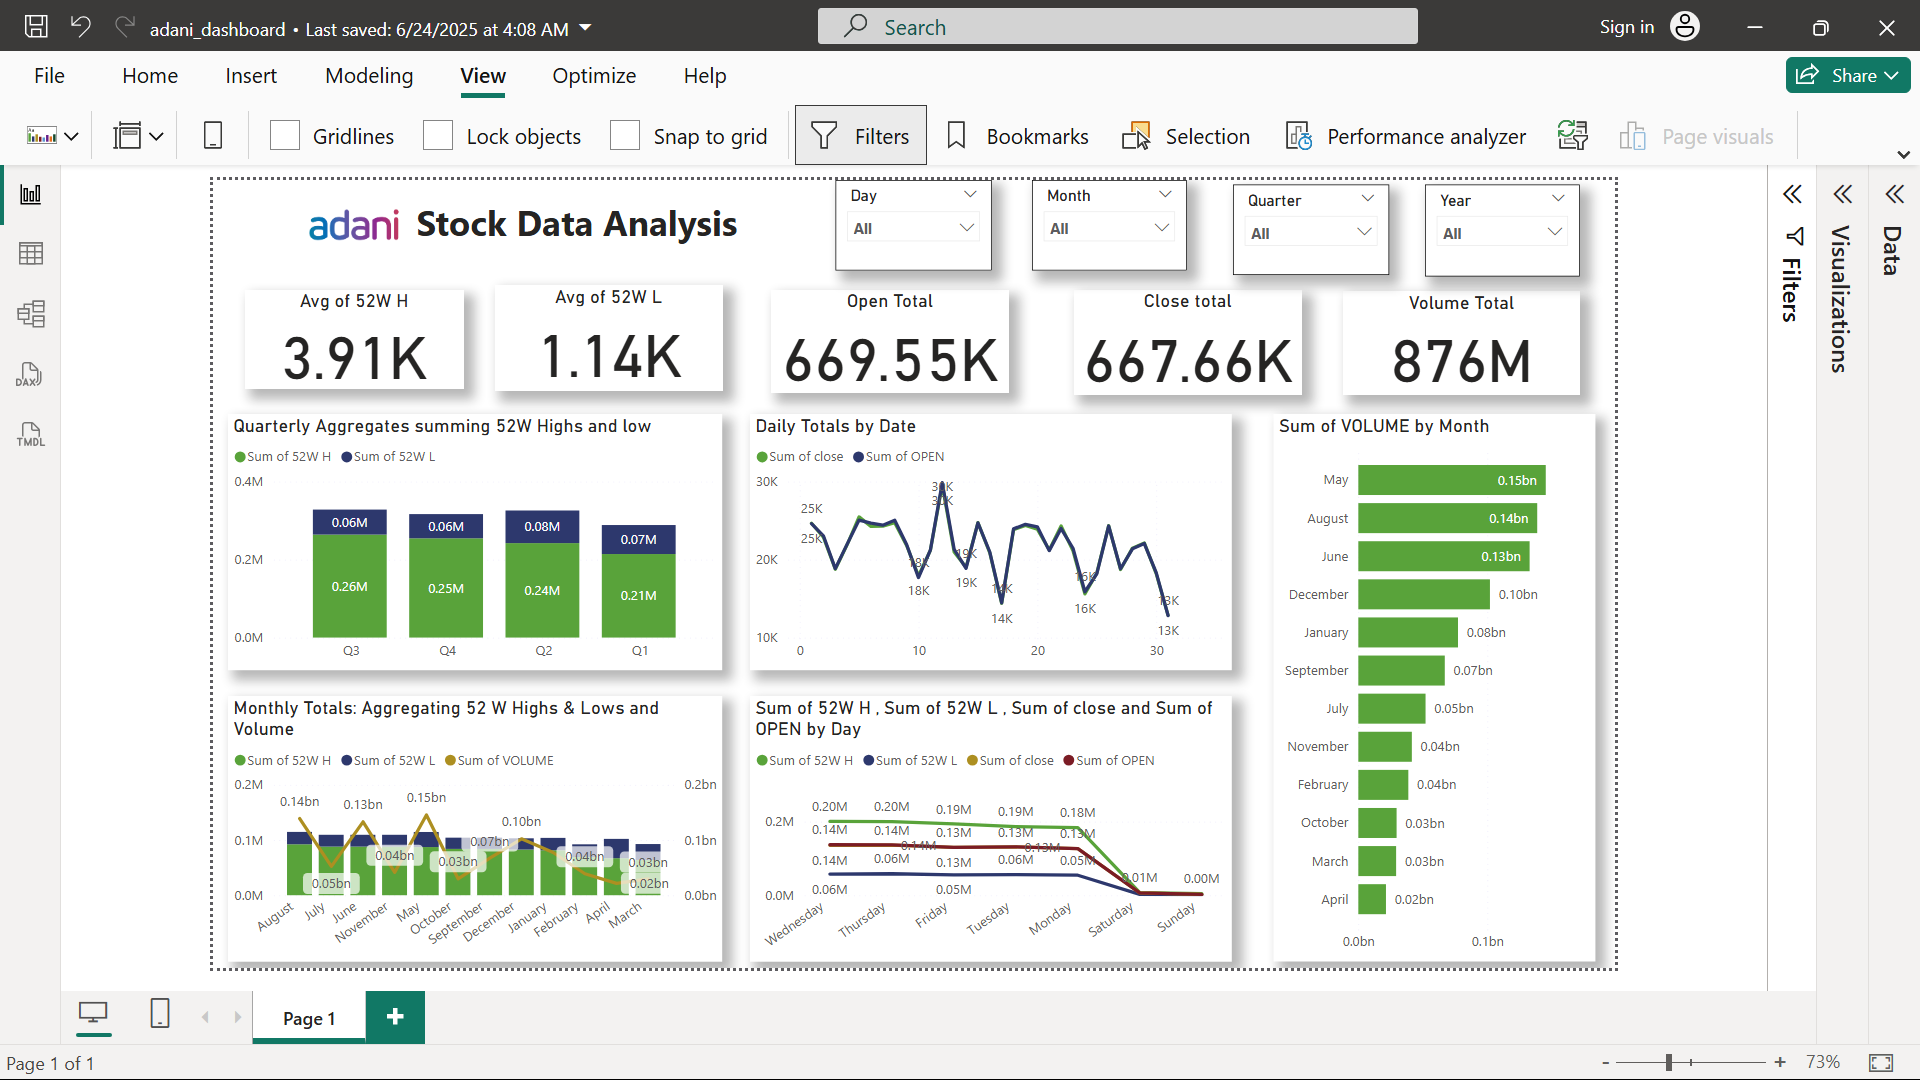

Layout of this report page (visuals, bound fields, positions):
{"tool":"powerbi","page":{"name":"Page 1","canvas":[1280,720],"ordinal":0},"visuals":[{"type":"slicer","fields":{"Values":["ADANI ENTERPRISES LIMITED.Day"]},"box":[568.6,0,142.9,82.9],"z":0},{"type":"slicer","fields":{"Values":["ADANI ENTERPRISES LIMITED.Month"]},"box":[748.6,0,141.4,82.9],"z":1000},{"type":"slicer","fields":{"Values":["ADANI ENTERPRISES LIMITED.Quarter"]},"box":[931.4,4.3,142.9,82.9],"z":2000},{"type":"slicer","fields":{"Values":["ADANI ENTERPRISES LIMITED.Year"]},"box":[1107.1,4.3,141.4,84.3],"z":3000},{"type":"card","title":"Avg of 52W H","fields":{"Values":["Avg(ADANI ENTERPRISES LIMITED.52W H )"]},"box":[28.3,100.2,200.3,90.7],"z":4000},{"type":"card","title":"Avg of 52W L","fields":{"Values":["Avg(ADANI ENTERPRISES LIMITED.52W L )"]},"box":[257,96.4,207.9,96.4],"z":5000},{"type":"card","title":"Close total","fields":{"Values":["Sum(ADANI ENTERPRISES LIMITED.close )"]},"box":[786.1,100.2,207.9,96.4],"z":6000},{"type":"card","title":"Open Total","fields":{"Values":["Sum(ADANI ENTERPRISES LIMITED.OPEN )"]},"box":[510.2,100.2,217.3,94.5],"z":7000},{"type":"card","title":"Volume Total","fields":{"Values":["Sum(ADANI ENTERPRISES LIMITED.VOLUME )"]},"box":[1031.8,102,217.3,94.5],"z":8000},{"type":"columnChart","title":"Quarterly Aggregates summing 52W Highs and low","fields":{"Y":["Sum(ADANI ENTERPRISES LIMITED.52W H )","Sum(ADANI ENTERPRISES LIMITED.52W L )"],"Category":["ADANI ENTERPRISES LIMITED.Quarter"]},"box":[13.2,213.4,451.6,233.8],"z":9000},{"type":"lineStackedColumnComboChart","title":"Monthly Totals: Aggregating 52 W Highs & Lows and Volume","fields":{"Y":["Sum(ADANI ENTERPRISES LIMITED.52W H )","Sum(ADANI ENTERPRISES LIMITED.52W L )"],"Category":["ADANI ENTERPRISES LIMITED.Month"],"Y2":["Sum(ADANI ENTERPRISES LIMITED.VOLUME )"]},"box":[13.2,470.6,451.6,242.6],"z":10000},{"type":"lineChart","title":"Daily Totals by Date","fields":{"Category":["ADANI ENTERPRISES LIMITED.Date .Variation.Date Hierarchy.Day"],"Y":["Sum(ADANI ENTERPRISES LIMITED.close )","Sum(ADANI ENTERPRISES LIMITED.OPEN )"]},"box":[491.1,213.4,439.9,233.8],"z":11000},{"type":"lineChart","fields":{"Y":["Sum(ADANI ENTERPRISES LIMITED.52W H )","Sum(ADANI ENTERPRISES LIMITED.52W L )","Sum(ADANI ENTERPRISES LIMITED.close )","Sum(ADANI ENTERPRISES LIMITED.OPEN )"],"Category":["ADANI ENTERPRISES LIMITED.Day"]},"box":[491.1,470.6,439.9,242.6],"z":12000},{"type":"clusteredBarChart","fields":{"Category":["ADANI ENTERPRISES LIMITED.Month"],"Y":["Sum(ADANI ENTERPRISES LIMITED.VOLUME )"]},"box":[969,213.4,293.8,499.8],"z":13000},{"type":"image","box":[0,0,257.1,80],"z":14000},{"type":"textbox","box":[181.4,11.3,309.9,68],"z":15000}]}

Visuals, with their boxes on the page's 1280x720 design canvas (x1, y1, x2, y2). These are canvas units, not pixel positions in the 1920x1080 screenshot, which may show the page scaled, cropped or inside an application window:
slicer - ADANI ENTERPRISES LIMITED.Day: [569, 0, 712, 83]
slicer - ADANI ENTERPRISES LIMITED.Month: [749, 0, 890, 83]
slicer - ADANI ENTERPRISES LIMITED.Quarter: [931, 4, 1074, 87]
slicer - ADANI ENTERPRISES LIMITED.Year: [1107, 4, 1248, 89]
"Avg of 52W H" card: [28, 100, 229, 191]
"Avg of 52W L" card: [257, 96, 465, 193]
"Close total" card: [786, 100, 994, 197]
"Open Total" card: [510, 100, 728, 195]
"Volume Total" card: [1032, 102, 1249, 196]
"Quarterly Aggregates summing 52W Highs and low" columnChart: [13, 213, 465, 447]
"Monthly Totals: Aggregating 52 W Highs & Lows and Volume" lineStackedColumnComboChart: [13, 471, 465, 713]
"Daily Totals by Date" lineChart: [491, 213, 931, 447]
lineChart - Sum(ADANI ENTERPRISES LIMITED.52W H ) x Sum(ADANI ENTERPRISES LIMITED.52W L ): [491, 471, 931, 713]
clusteredBarChart - ADANI ENTERPRISES LIMITED.Month x Sum(ADANI ENTERPRISES LIMITED.VOLUME ): [969, 213, 1263, 713]
image: [0, 0, 257, 80]
textbox: [181, 11, 491, 79]
